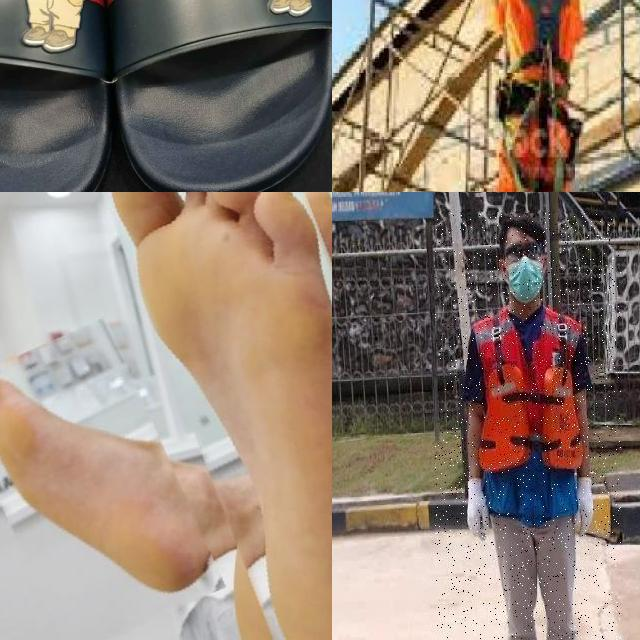Barefoots: (107, 192, 332, 640), (0, 315, 215, 640)
Harness: (498, 0, 574, 192)
Sandals: (0, 0, 332, 192)
person: (435, 212, 621, 640)
vest: (473, 304, 582, 522)
